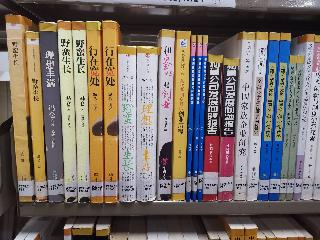book-spine: (5, 13, 36, 201), (37, 22, 64, 202), (26, 31, 52, 203), (131, 47, 160, 201), (266, 33, 292, 201), (244, 32, 269, 202), (258, 32, 281, 202), (169, 31, 191, 201), (293, 34, 315, 201), (58, 20, 78, 202), (86, 22, 106, 204), (155, 30, 176, 203), (233, 32, 254, 201), (72, 22, 91, 203), (116, 46, 138, 202), (101, 22, 119, 203), (218, 58, 240, 202), (277, 56, 298, 201), (204, 54, 223, 203), (303, 35, 320, 201), (286, 55, 305, 201), (196, 34, 209, 203), (190, 35, 202, 202), (186, 34, 197, 202)
